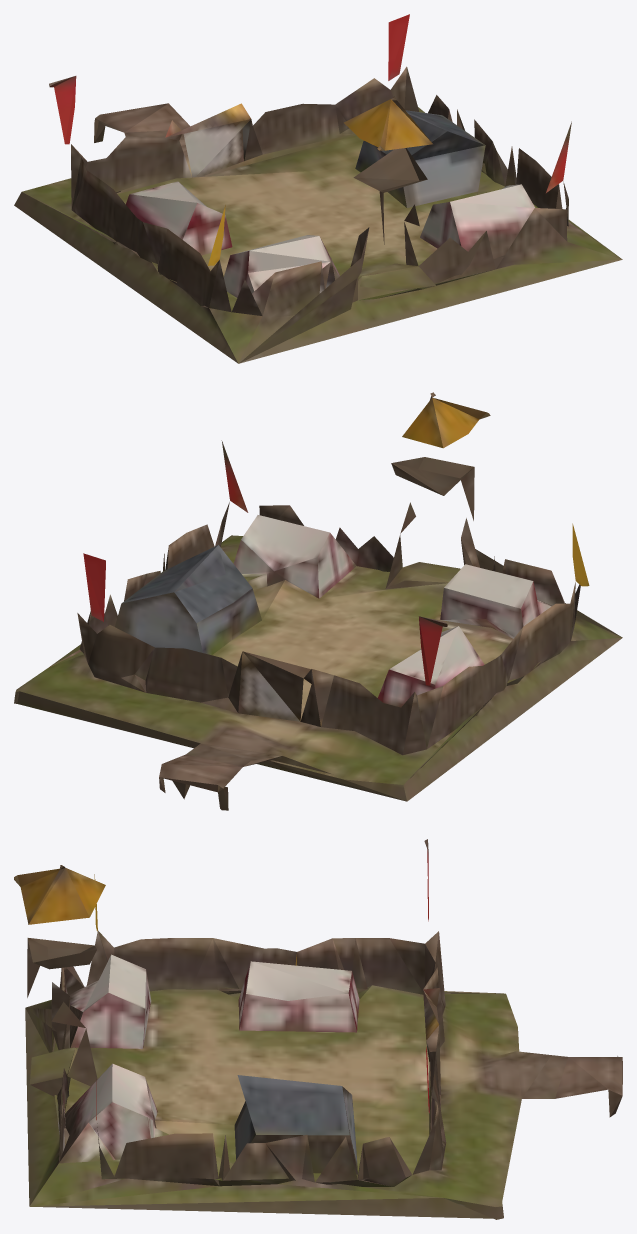
File: camp_ming_1_far.glb
3 renders of one model, top to bottom at view 1: azimuth 30°, elevation 25°; view 2: azimuth 150°, elevation 25°; view 3: azimuth 270°, elevation 25°, orthographic. The views are drawn at different scales.
Parts seen in each view (by area): view 1: camp_ming_1_far; view 2: camp_ming_1_far; view 3: camp_ming_1_far.
Part boxes in pixels (x1,y1,x2,y2): camp_ming_1_far: [14, 14, 622, 363]; camp_ming_1_far: [14, 392, 622, 810]; camp_ming_1_far: [14, 839, 622, 1219].
Bounding box in the file's own units: 0.8331 × 0.4383 × 1.
1 material, 1 textured.
